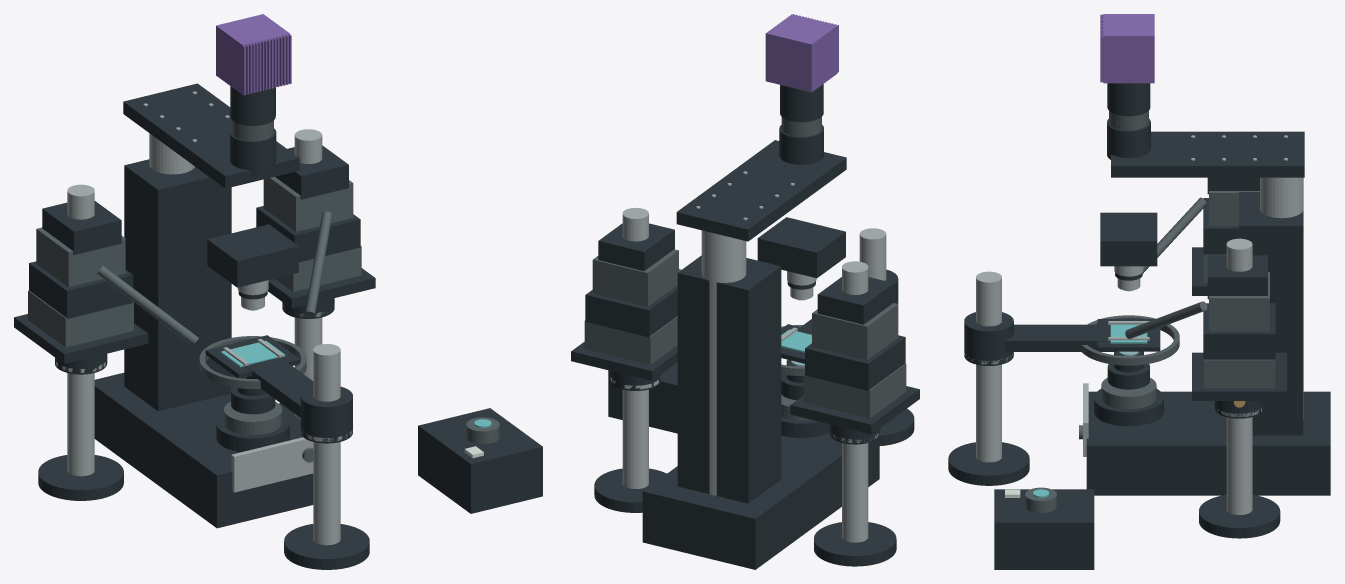
The model's file is slicescope-optical.glb.
3 views of the same model, side by side, from view 1: azimuth 30°, elevation 25°; view 2: azimuth 150°, elevation 25°; view 3: azimuth 270°, elevation 25° (orthographic). The views are drawn at different scales.
Parts seen in each view (by area): view 1: Nosepiece_control_cover, Motorized_XY_base_157p2x300, Remote_focus_console, Top_head_plate_100, Front_post, Nose_block, Left_post, SciCam_exterior, Left_mount_lower, Left_mount_mid, XY_stage_front_inset, Left_mount_upper (+26 smaller); view 2: Nosepiece_control_cover, Motorized_XY_base_157p2x300, Top_head_plate_100, SciCam_exterior, Nose_block, Main_steel_column, Left_post, Right_post, Left_mount_upper, Right_mount_upper, Left_mount_mid, Left_mount_lower (+18 smaller); view 3: Motorized_XY_base_157p2x300, Nosepiece_control_cover, Top_head_plate_100, Remote_focus_console, Front_post, SciCam_exterior, Right_post, Nose_block, Front_stage_arm, Right_post_foot_100, Front_post_foot_100, Right_mount_mid (+22 smaller).
Boxes of the visible parts, box(x1,y1,x2,y2) form: Nosepiece_control_cover: box(124, 159, 231, 411); Motorized_XY_base_157p2x300: box(94, 372, 313, 528); Remote_focus_console: box(418, 408, 542, 513); Top_head_plate_100: box(123, 83, 299, 188); Front_post: box(313, 344, 340, 545); Nose_block: box(207, 224, 298, 287); Left_post: box(67, 184, 94, 476); SciCam_exterior: box(216, 14, 290, 94); Left_mount_lower: box(28, 290, 133, 347); Left_mount_mid: box(29, 261, 133, 318); XY_stage_front_inset: box(231, 437, 313, 492); Left_mount_upper: box(36, 227, 125, 287); Nosepiece_control_cover: box(677, 255, 781, 503); Motorized_XY_base_157p2x300: box(642, 432, 879, 569); Top_head_plate_100: box(676, 140, 846, 241); SciCam_exterior: box(765, 14, 837, 92); Nose_block: box(757, 217, 845, 278); Main_steel_column: box(701, 230, 746, 495); Left_post: box(842, 261, 868, 542); Right_post: box(622, 207, 648, 488); Left_mount_upper: box(812, 303, 898, 360); Right_mount_upper: box(592, 249, 678, 306); Left_mount_mid: box(805, 335, 905, 390); Left_mount_lower: box(804, 363, 906, 418); Motorized_XY_base_157p2x300: box(1086, 391, 1330, 495); Nosepiece_control_cover: box(1239, 192, 1303, 435); Top_head_plate_100: box(1111, 131, 1304, 177); Remote_focus_console: box(994, 489, 1094, 569); Front_post: box(976, 271, 1001, 462); SciCam_exterior: box(1103, 14, 1154, 83); Right_post: box(1226, 238, 1252, 514); Nose_block: box(1100, 212, 1157, 266); Front_stage_arm: box(1004, 324, 1116, 351); Right_post_foot_100: box(1199, 495, 1280, 538); Front_post_foot_100: box(948, 442, 1029, 485); Right_mount_mid: box(1203, 303, 1275, 359).
Size of the model in its own units: 0.504 by 0.602 by 0.47.
